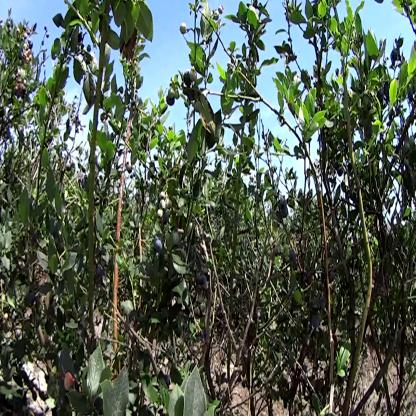intermediate: (64, 372, 75, 393)
mature: (277, 196, 290, 221), (151, 234, 163, 255)
young: (180, 22, 189, 35)
